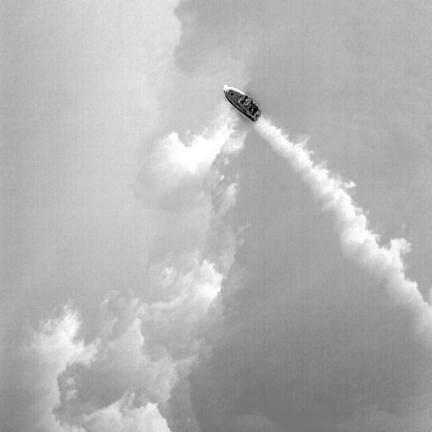flukeprints: (155, 127, 230, 177)
